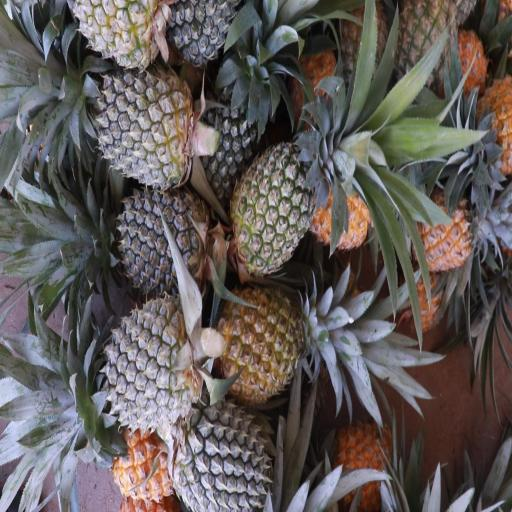------------------------------: (235, 148, 334, 271), (216, 285, 308, 399), (78, 0, 168, 76), (395, 0, 459, 92)
Pineapple - v8 v1: (101, 411, 175, 503), (330, 413, 391, 512), (312, 160, 373, 246), (418, 188, 478, 272)
